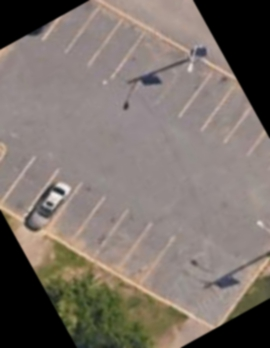parkingspot: (21, 0, 270, 179), (0, 135, 182, 292)
